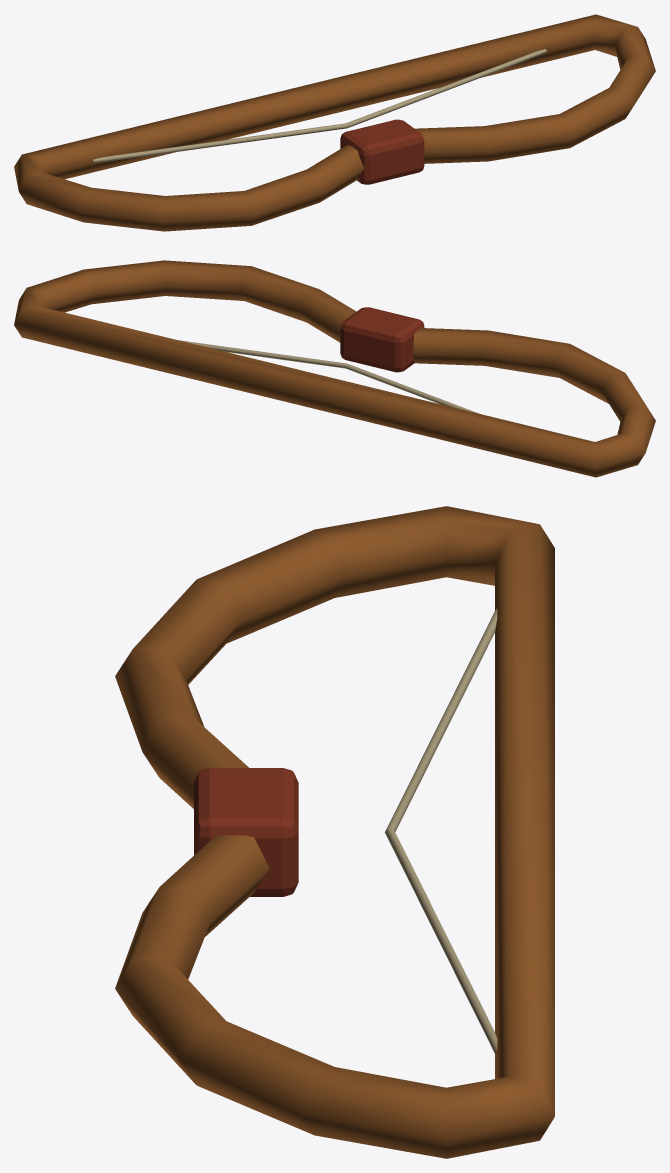
Rendered from greek_composite_bow_LOD1.glb.
The picture shows the model from 3 angles, top to bottom: view 1: azimuth 30°, elevation 25°; view 2: azimuth 150°, elevation 25°; view 3: azimuth 270°, elevation 25°; orthographic projection. The views are drawn at different scales.
Visible parts, largest first — view 1: LOD1_Bow, LOD1_Grip, LOD1_String; view 2: LOD1_Bow, LOD1_Grip, LOD1_String; view 3: LOD1_Bow, LOD1_Grip, LOD1_String.
Part boxes in pixels (left/top/right/bottom): LOD1_Bow: left=14, top=14, right=655, bottom=231; LOD1_Grip: left=340, top=119, right=424, bottom=184; LOD1_String: left=93, top=49, right=546, bottom=163; LOD1_Bow: left=14, top=260, right=655, bottom=477; LOD1_Grip: left=340, top=307, right=424, bottom=372; LOD1_String: left=179, top=340, right=478, bottom=413; LOD1_Bow: left=115, top=506, right=554, bottom=1158; LOD1_Grip: left=194, top=768, right=298, bottom=896; LOD1_String: left=385, top=608, right=497, bottom=1053.
Size of the model in its own units: 1.66 by 0.1 by 0.5051.
